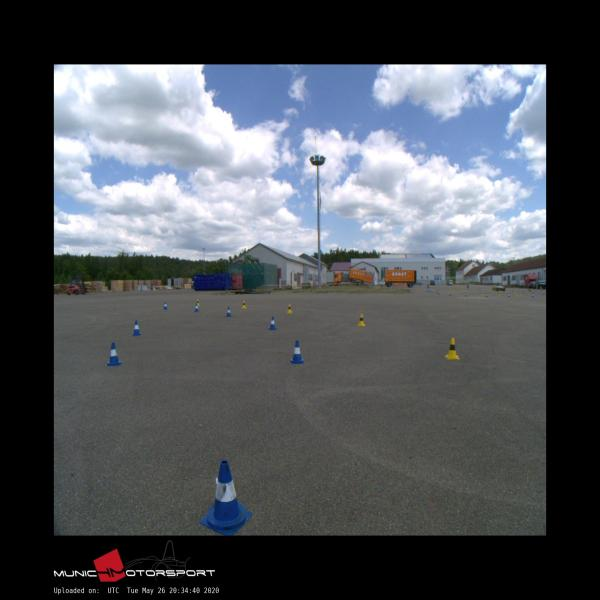blue_cone: (200, 461, 251, 535), (106, 342, 121, 366), (290, 341, 304, 363), (132, 320, 140, 335), (269, 316, 276, 329), (225, 306, 231, 315), (194, 303, 199, 312), (163, 302, 168, 309)
yellow_cone: (444, 337, 459, 359), (358, 313, 364, 326), (286, 304, 292, 312), (242, 300, 246, 308), (196, 299, 200, 306)
